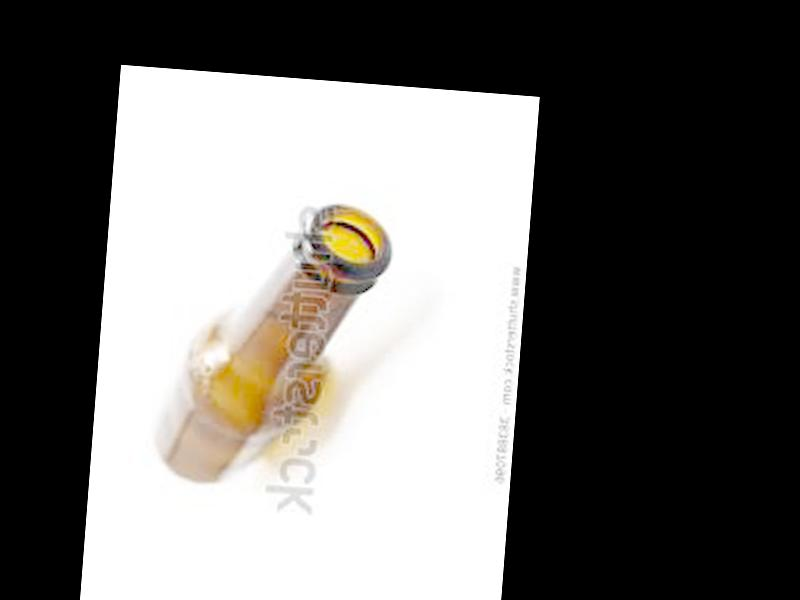Beer: (152, 190, 397, 497)
